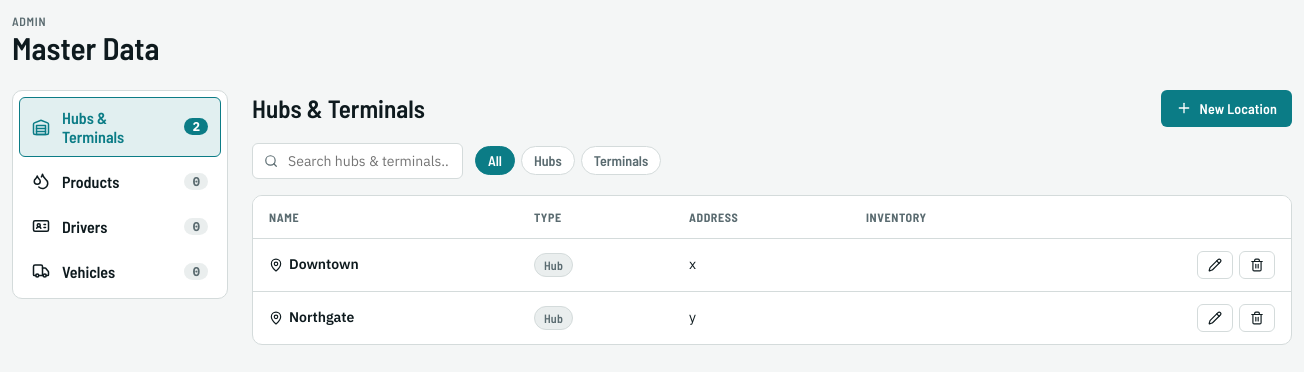
Scenario: MasterDataPage › tolerates null products/drivers/vehicles payloads across every tab
Check: the text "Downtown" is shown, box [269,255,359,273]
What coordinates should you click on to do the following:
click the button "Products 0"
I would click on:
 (120, 181)
Its box is [19,161,221,202].
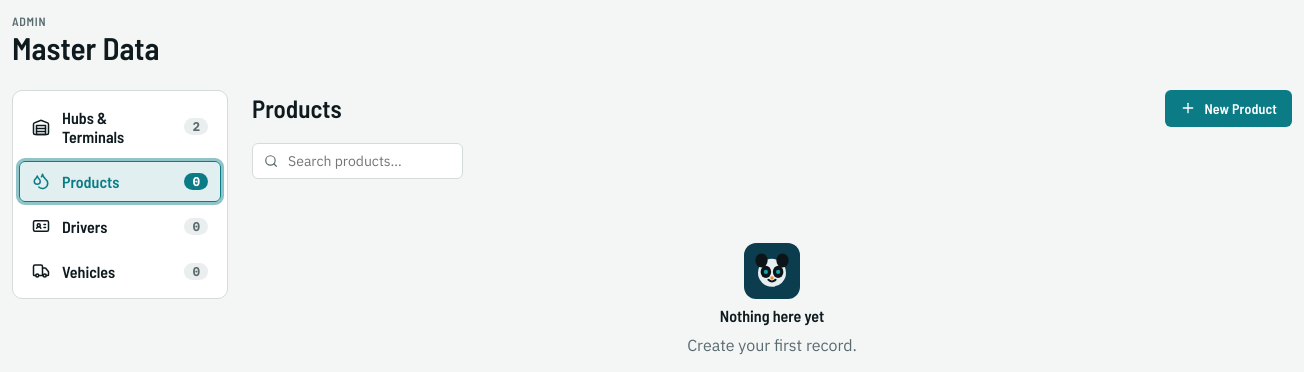
Check: the heading "Products" is shown, box [252,94,342,123]
What coordinates should you click on to do the following:
click the button "Drivers 0"
I would click on:
 (120, 226)
Its box is [19,206,221,247].
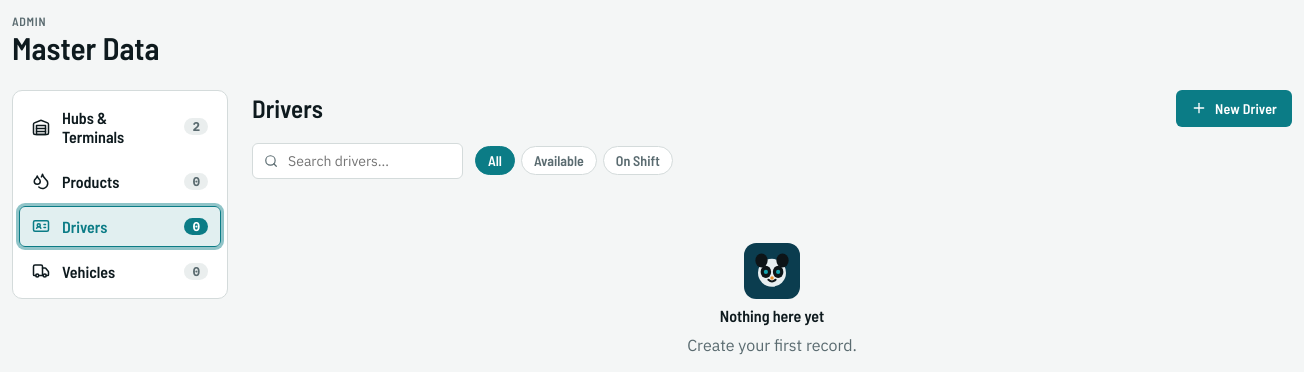
Check: the heading "Drivers" is shown, box [252,94,323,123]
What coordinates should you click on to do the following:
click the button "Vehicles 0"
I would click on:
 (120, 271)
Its box is [19,251,221,292].
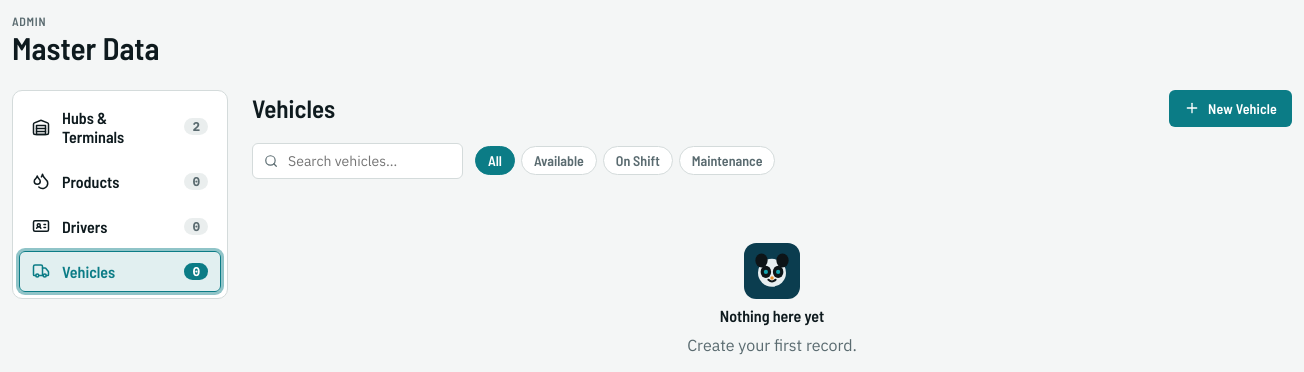
Check: the heading "Vehicles" is shown, box [252,94,335,123]
